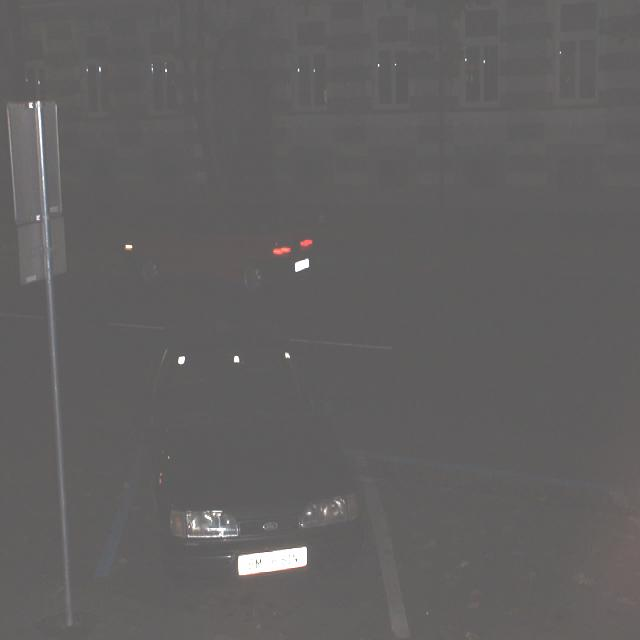Car: (138, 330, 367, 600), (114, 190, 316, 304)
